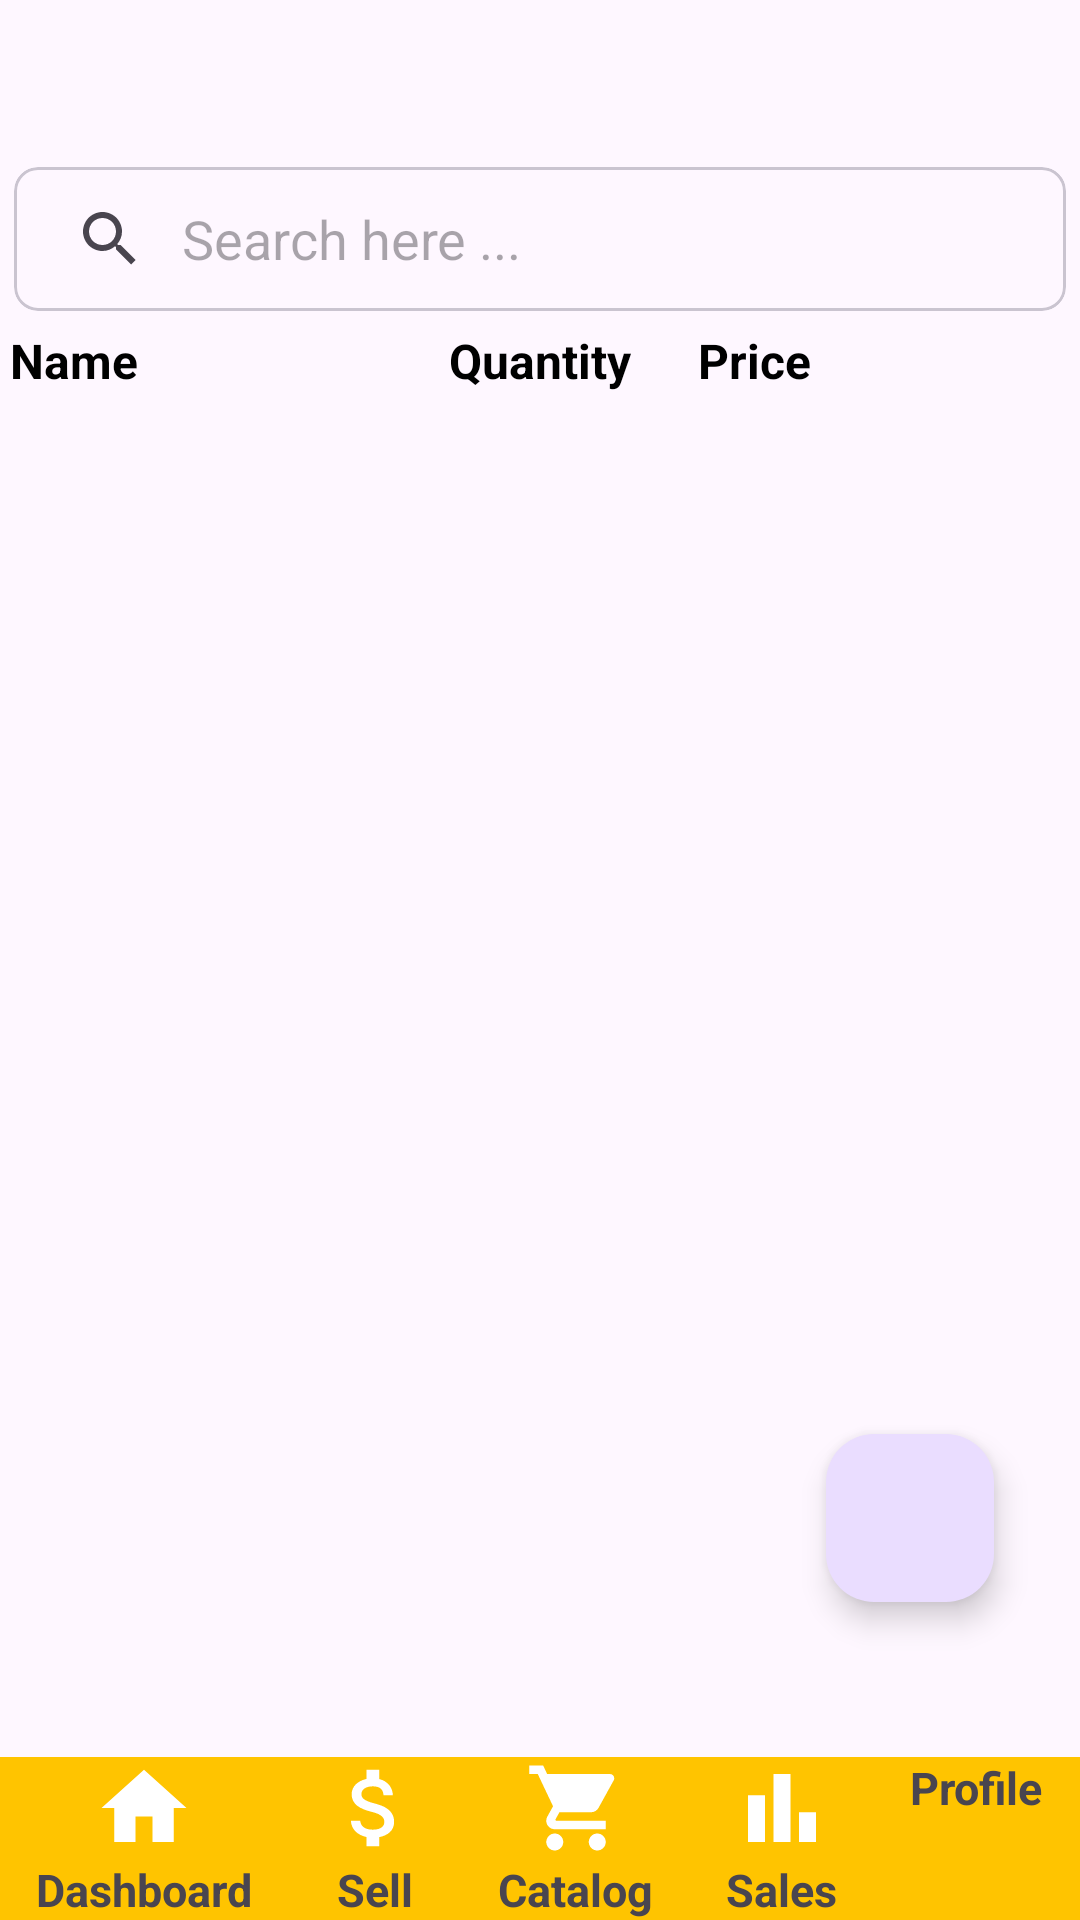

Named icons in this screenshot (1080*1920) and their centers, [x,y]:
analytics: [782,1808]
